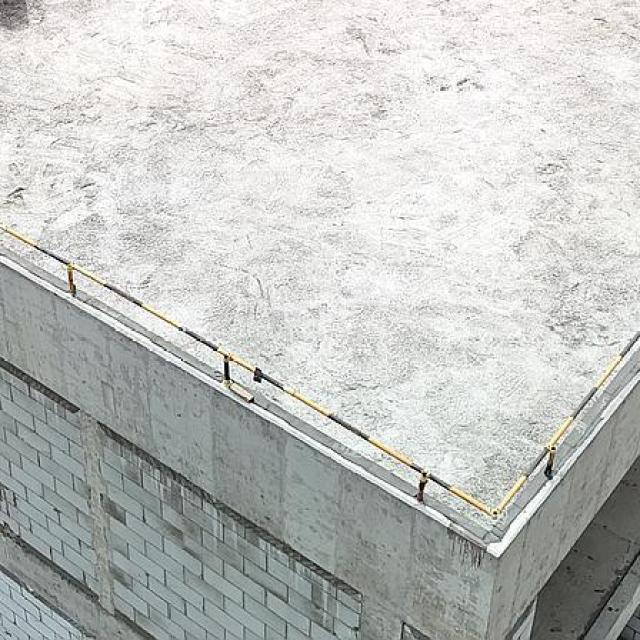edge_guardrail: (0, 225, 640, 519)
